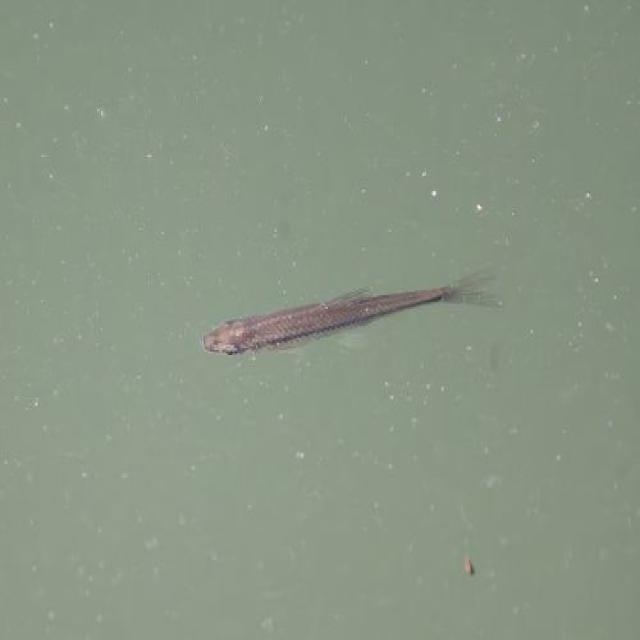Cakil Baligi: (200, 267, 538, 363)
